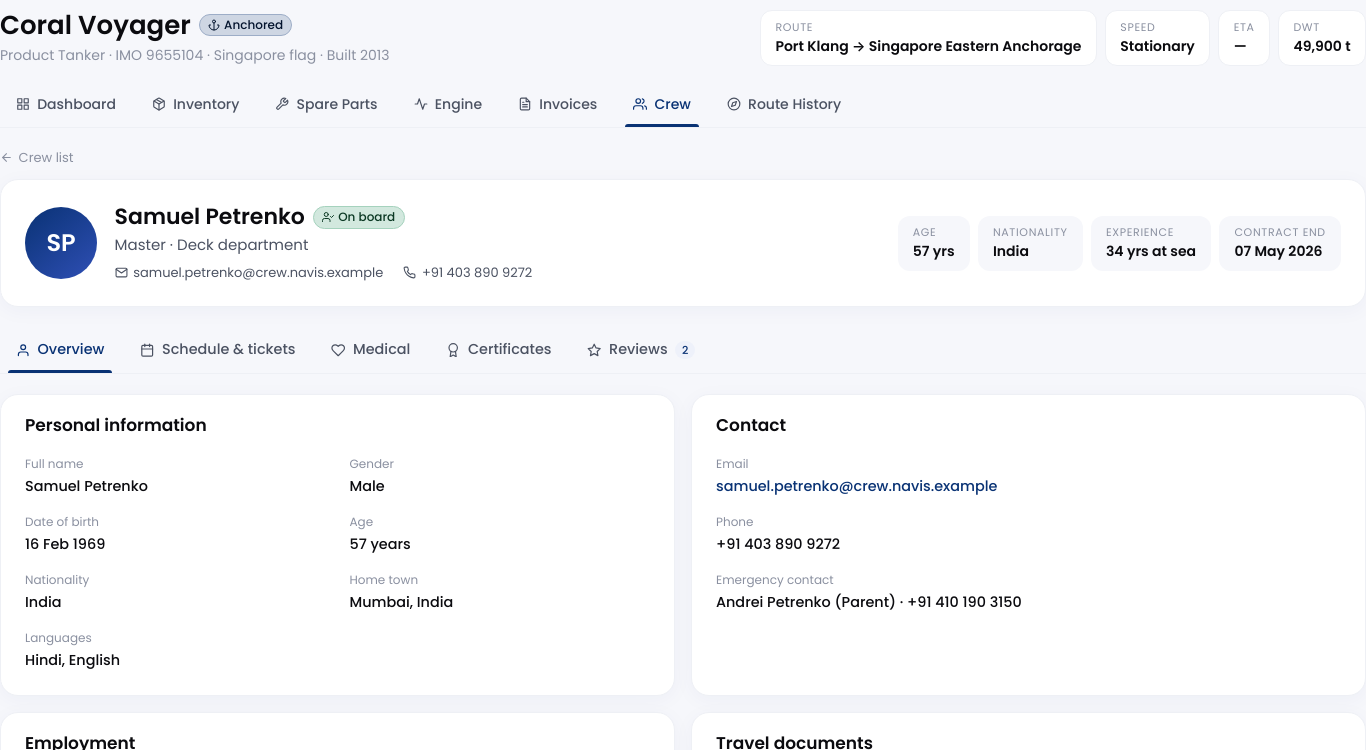
Test: crew member page › switches to the Reviews tab
This screenshot has width=1366, height=750.
Click the tab "Reviews 2" at [642, 350], box left=572, top=327, right=712, bottom=373
(page scrolled)
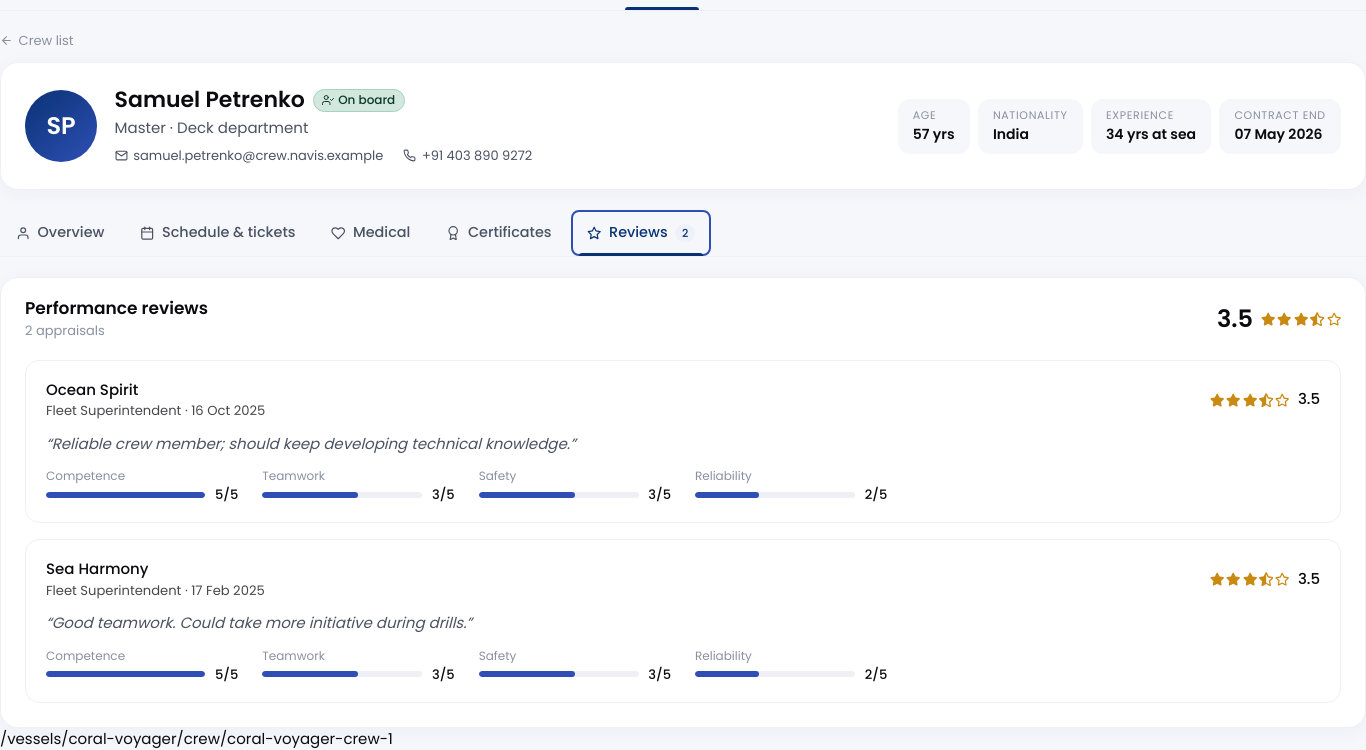
Now the element "Performance reviews" is shown
